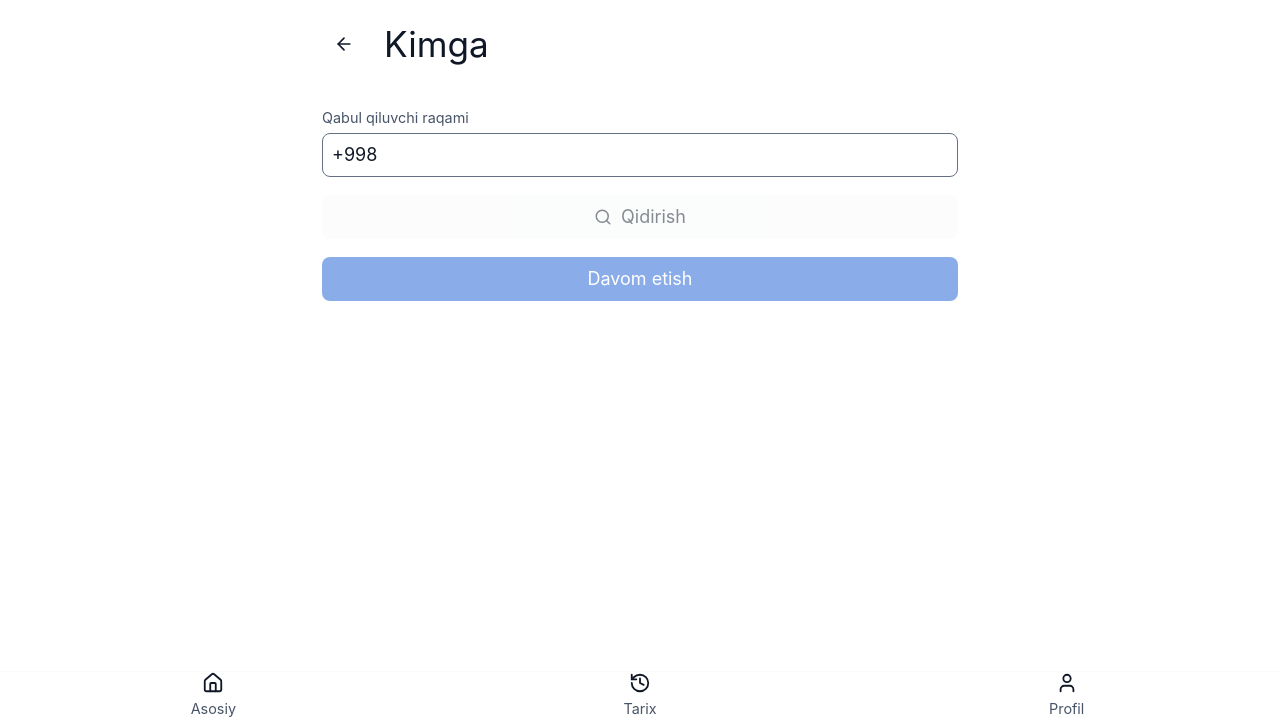
Test: step 2 — the daily allowance › lets an amount within the allowance through
Type "907654321" into the field labelled "Qabul qiluvchi raqami" at (640, 155), box [322,133,958,177]
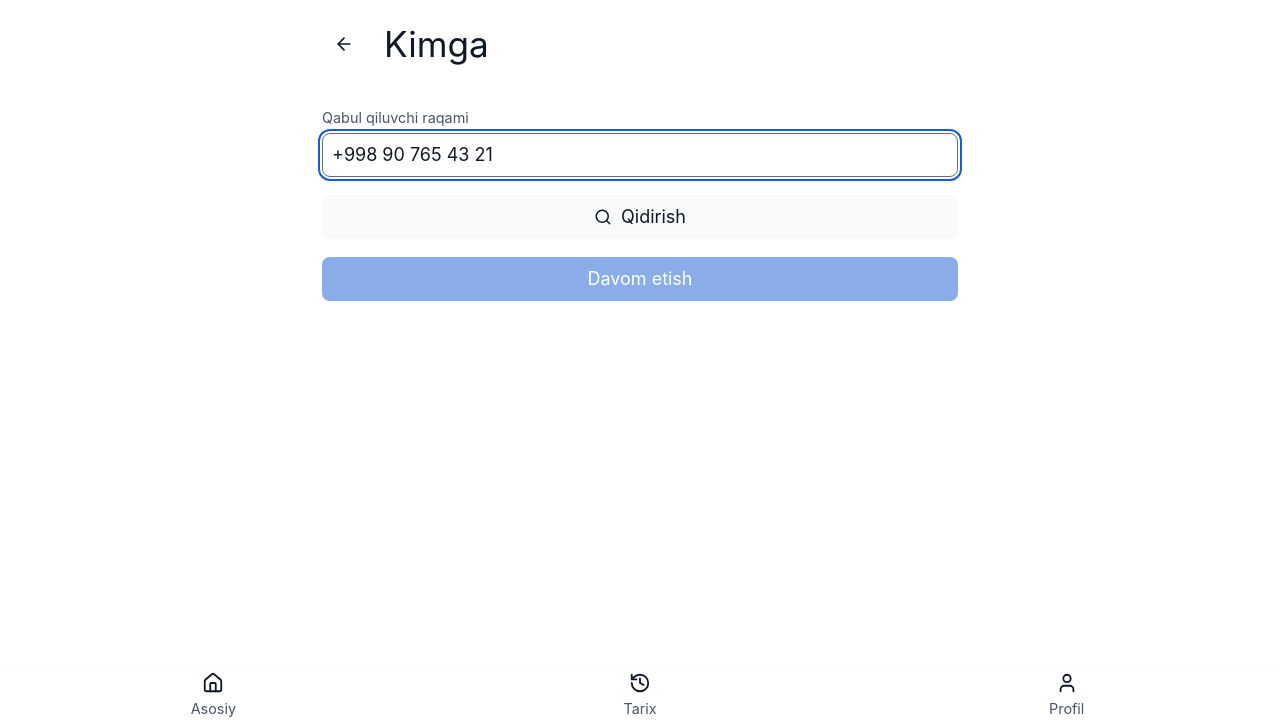
Click the button "Qidirish" at (640, 217), box [322,195,958,239]
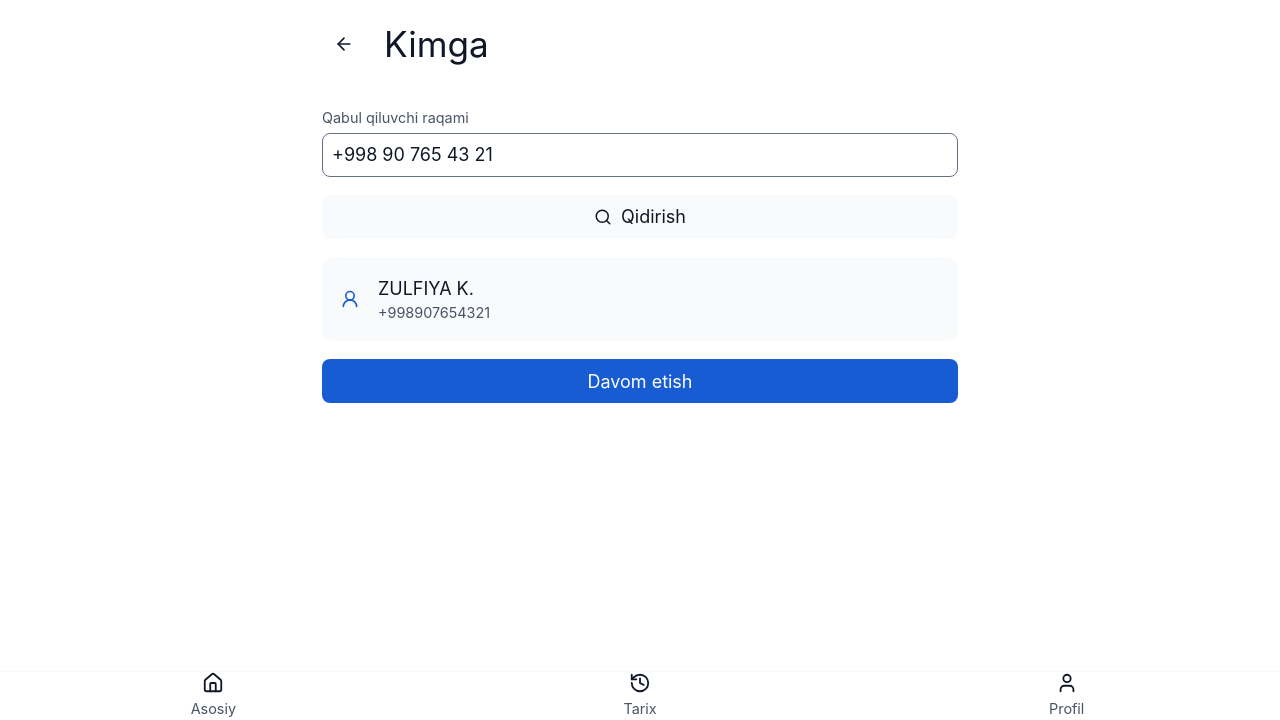
Expected: the text "ZULFIYA K." is shown, [378,275,490,302]
Click the button "Davom etish" at (640, 381), box [322,359,958,403]
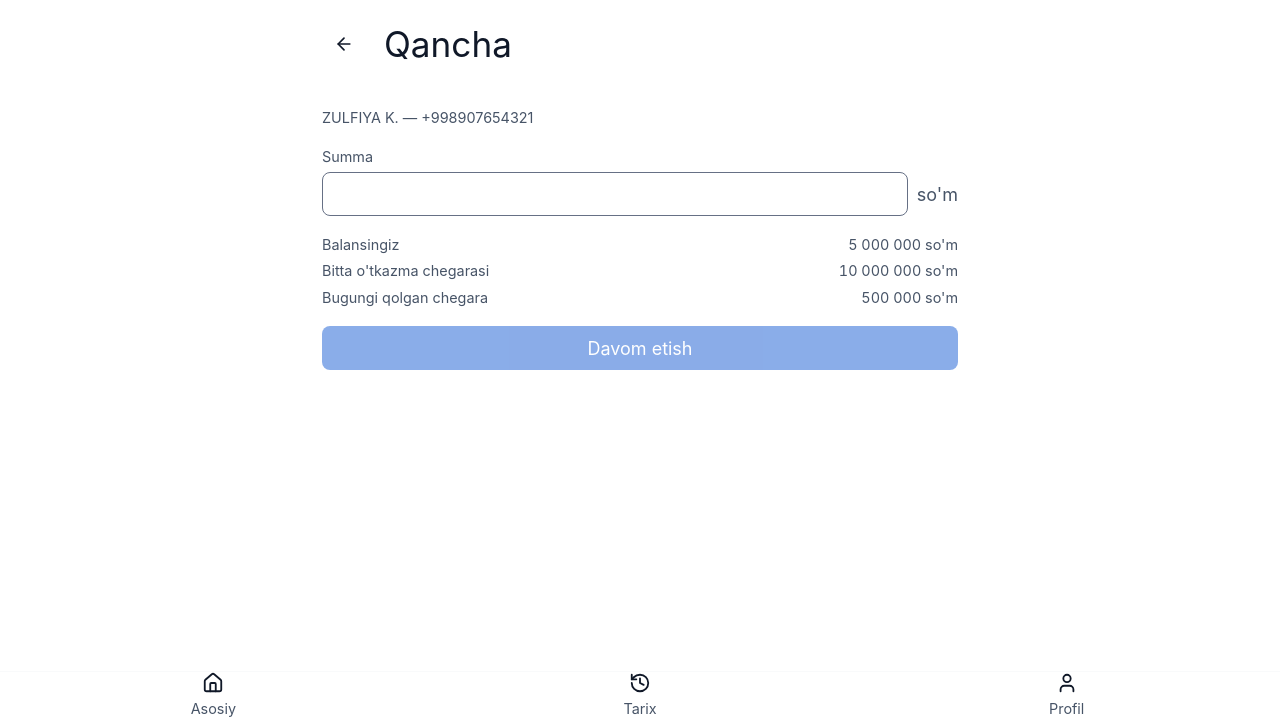
Type "400000" into the field labelled "Summa" at (615, 194), box [322,172,908,216]
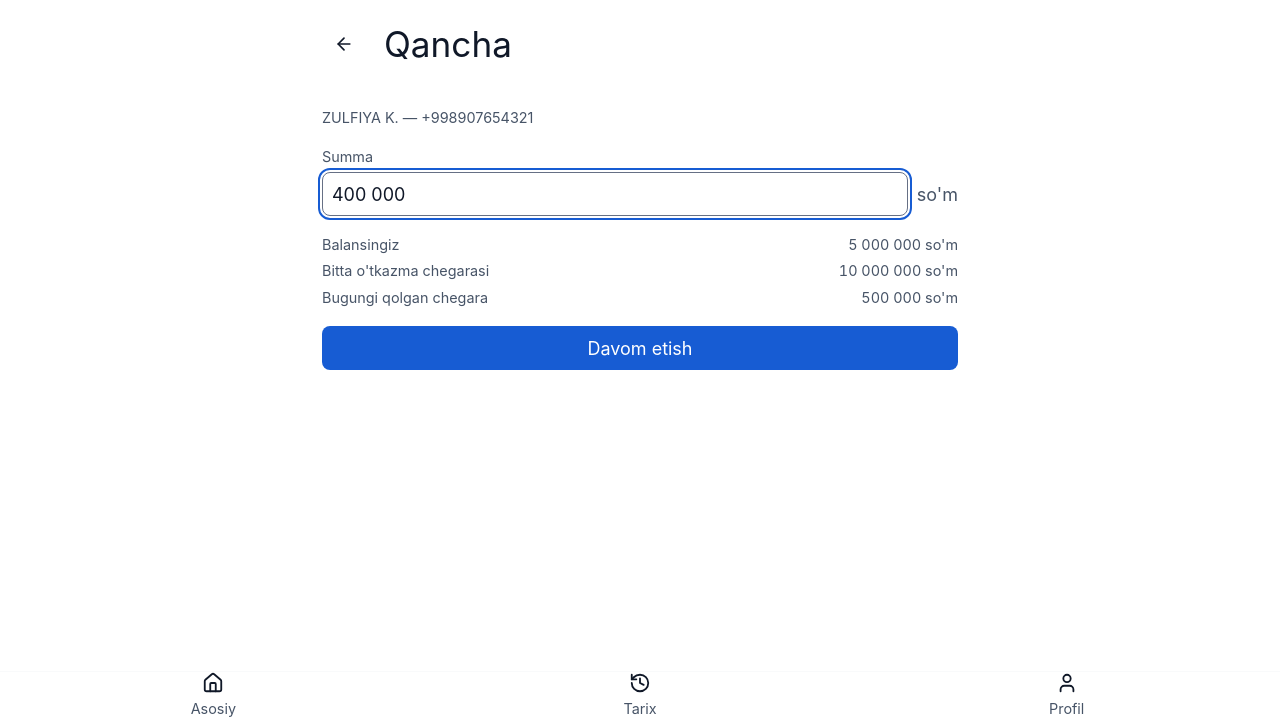
Click the button "Davom etish" at (640, 348), box [322,326,958,370]
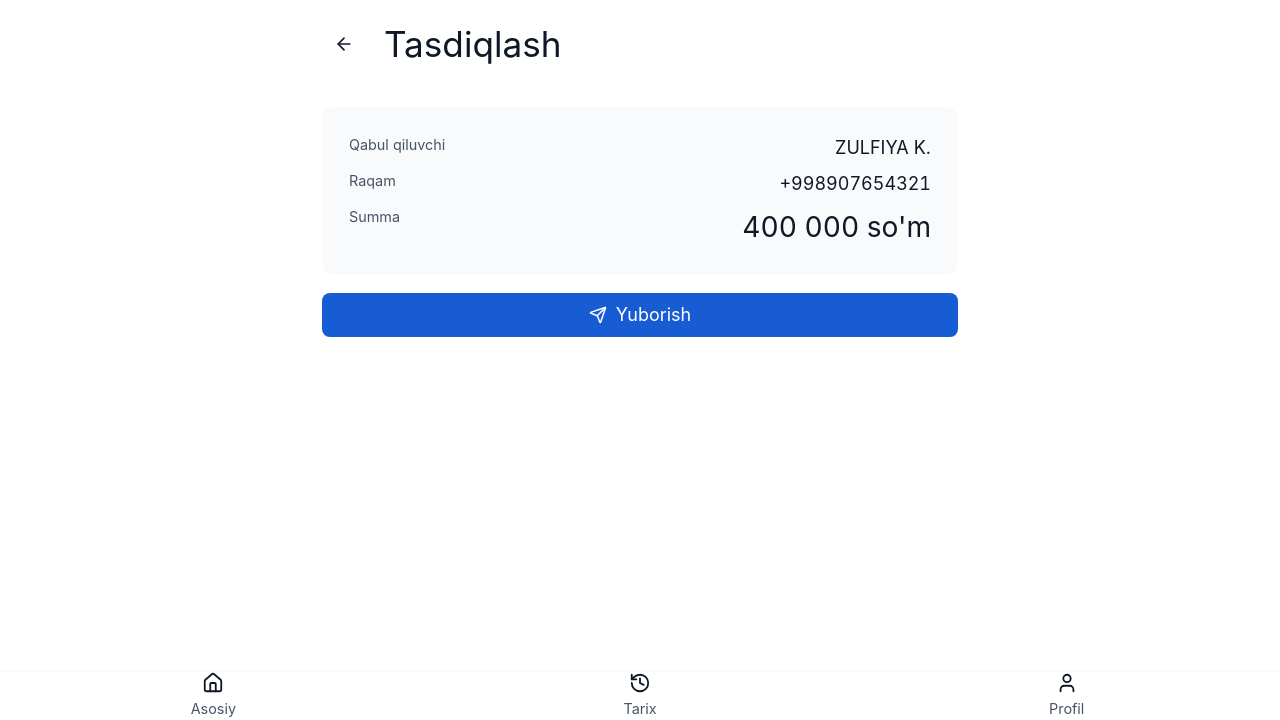
Expected: the heading "Tasdiqlash" is shown, [384,18,562,71]
